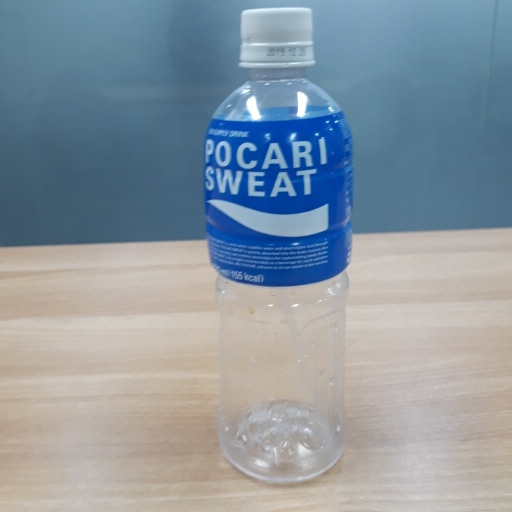Plastic_0: (199, 6, 355, 483)
